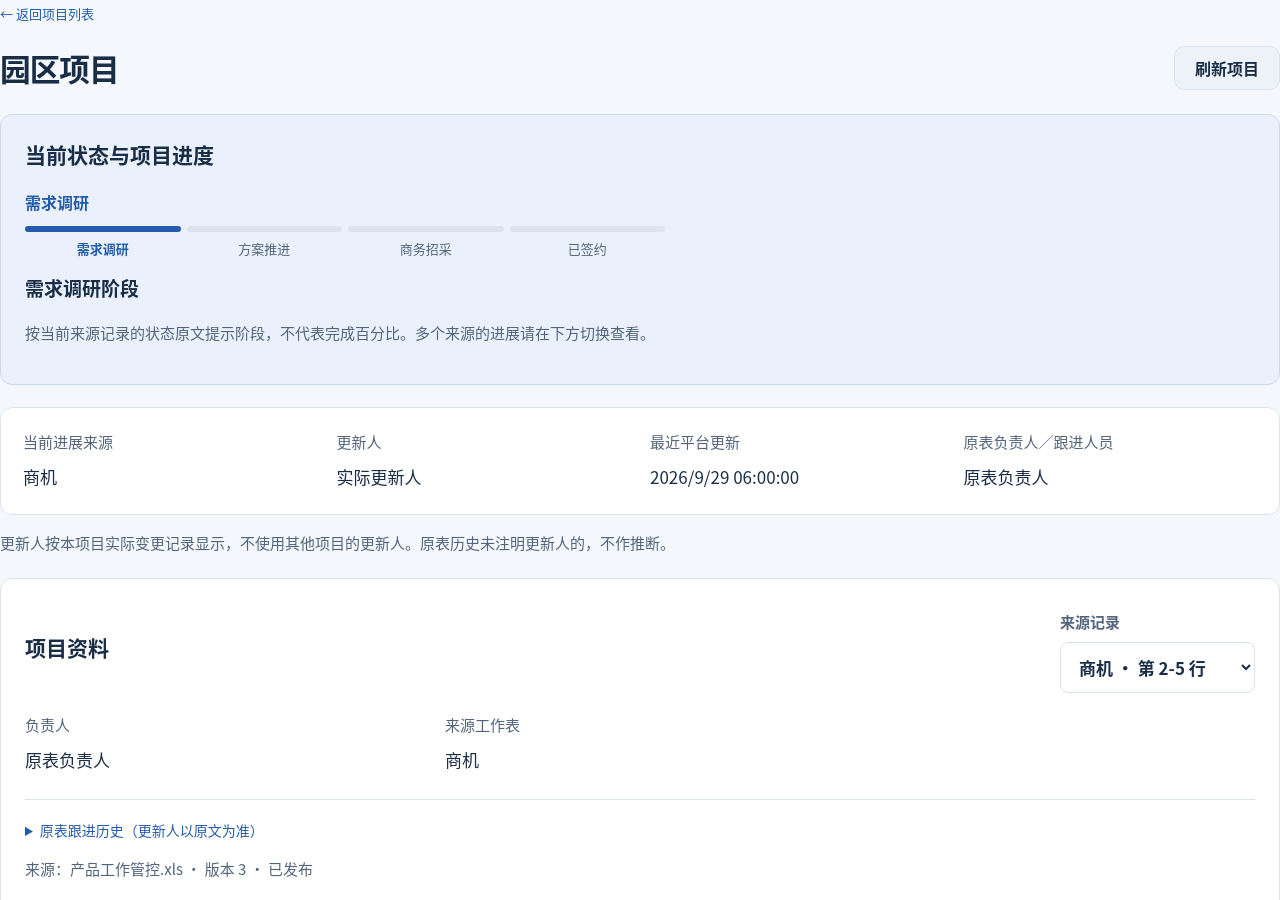
Scenario: refresh failure removes previously visible project details
expect the heading "当前状态与项目进度" is shown: met, box left=25, top=138, right=214, bottom=168
Click the button "刷新项目". click: (1227, 68)
box: left=1174, top=46, right=1279, bottom=90
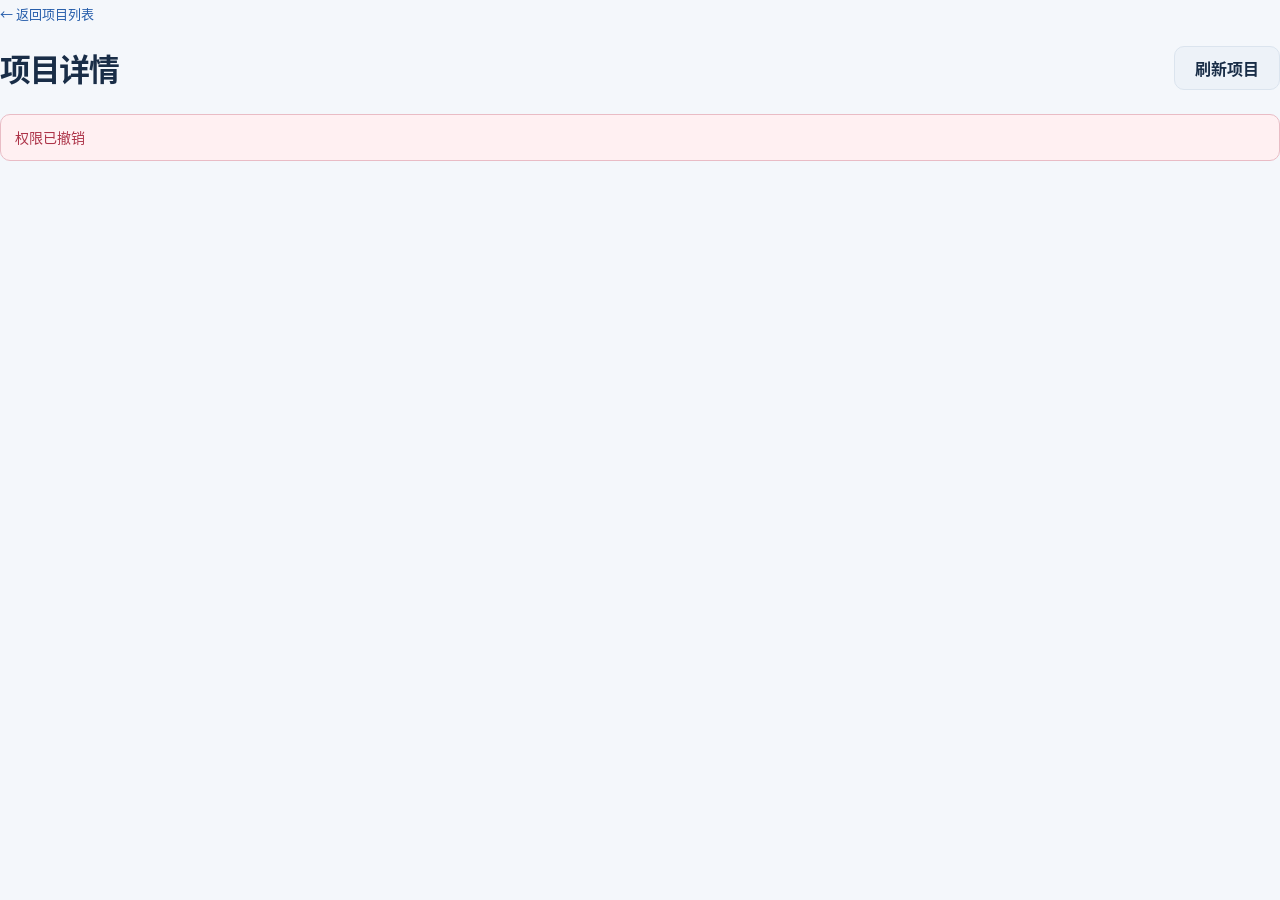
expect the message "权限已撤销" is shown: met, box left=0, top=114, right=1279, bottom=161
expect the text "实际更新人" is gone: met
